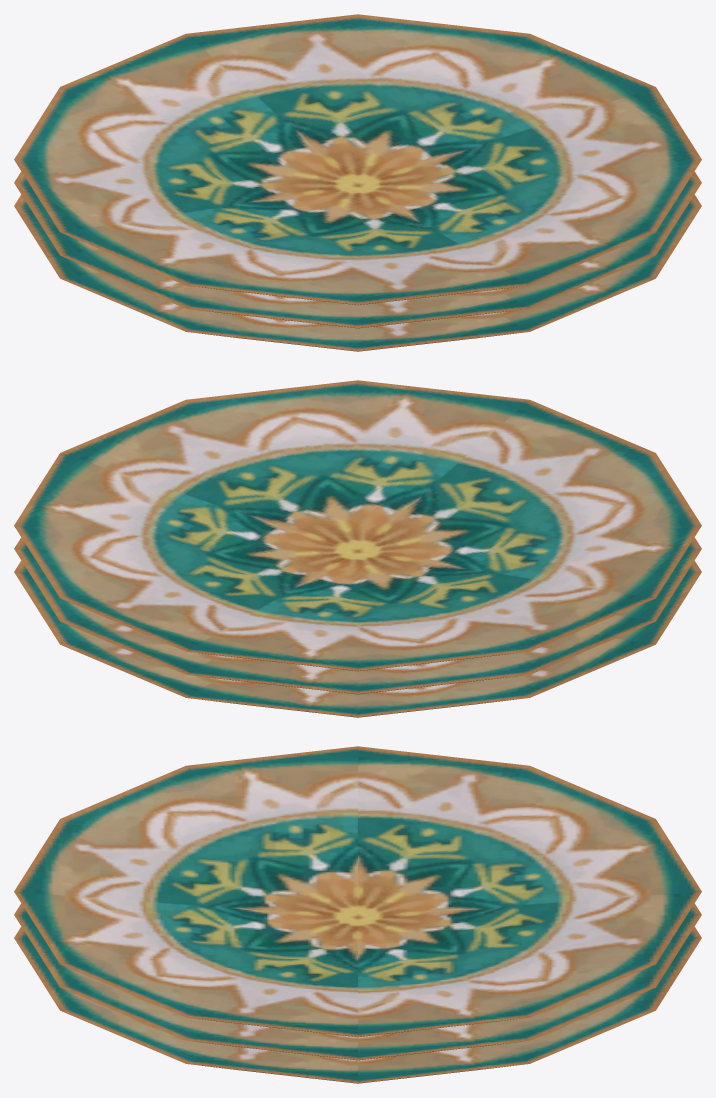
File: Homeworld_Interior_Xm_Decoration_Prop_PanziGroup_01_Vo.fbx
3 renders of one model, top to bottom at view 1: azimuth 30°, elevation 25°; view 2: azimuth 150°, elevation 25°; view 3: azimuth 270°, elevation 25°, orthographic.
Visible parts, largest first — view 1: Indoor_Xm_Prop_Barbecue_Decoration_61_Vo (1), Indoor_Xm_Prop_Barbecue_Decoration_61_Vo, Indoor_Xm_Prop_Barbecue_Decoration_61_Vo (2); view 2: Indoor_Xm_Prop_Barbecue_Decoration_61_Vo (1), Indoor_Xm_Prop_Barbecue_Decoration_61_Vo, Indoor_Xm_Prop_Barbecue_Decoration_61_Vo (2); view 3: Indoor_Xm_Prop_Barbecue_Decoration_61_Vo (1), Indoor_Xm_Prop_Barbecue_Decoration_61_Vo, Indoor_Xm_Prop_Barbecue_Decoration_61_Vo (2).
Boxes of the visible parts, x1,y1,x2,y2 form: Indoor_Xm_Prop_Barbecue_Decoration_61_Vo (1): (14,14,701,305); Indoor_Xm_Prop_Barbecue_Decoration_61_Vo: (14,194,701,351); Indoor_Xm_Prop_Barbecue_Decoration_61_Vo (2): (14,171,701,328); Indoor_Xm_Prop_Barbecue_Decoration_61_Vo (1): (14,380,701,671); Indoor_Xm_Prop_Barbecue_Decoration_61_Vo: (14,560,701,717); Indoor_Xm_Prop_Barbecue_Decoration_61_Vo (2): (14,537,701,694); Indoor_Xm_Prop_Barbecue_Decoration_61_Vo (1): (14,746,701,1037); Indoor_Xm_Prop_Barbecue_Decoration_61_Vo: (14,926,701,1083); Indoor_Xm_Prop_Barbecue_Decoration_61_Vo (2): (14,903,701,1060).
Size of the model in its own units: 0.6729 by 0.098 by 0.6729.
